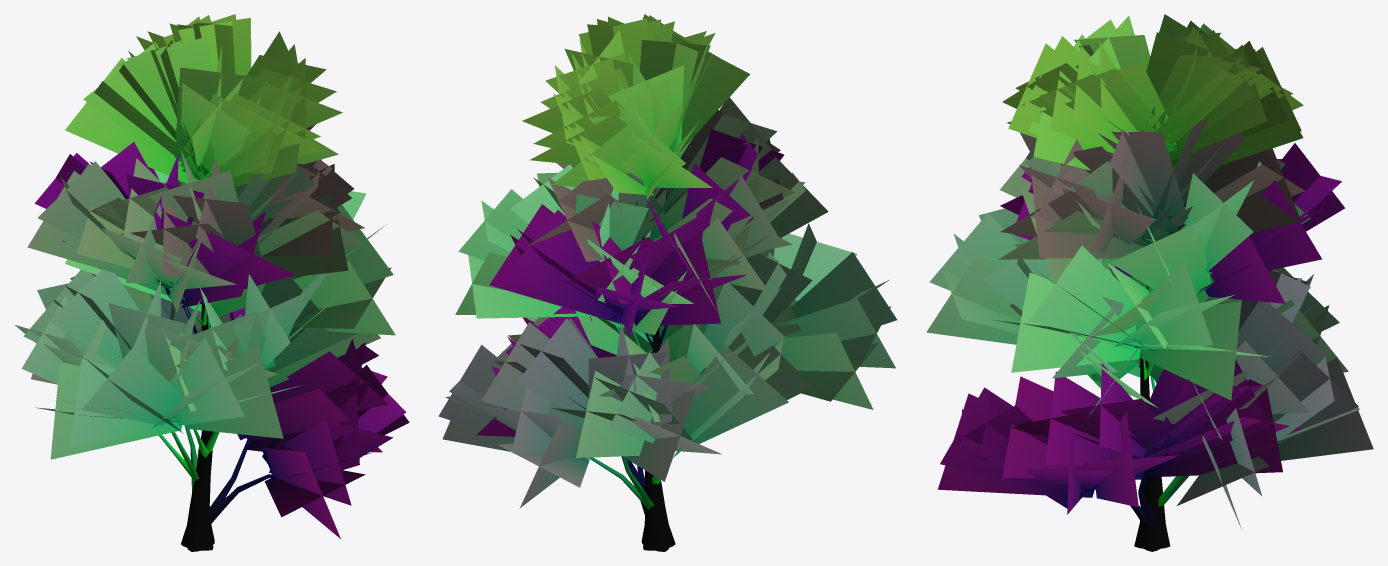
Rendered from Tree_8_4.fbx.
The picture shows the model from 3 angles, left to right: view 1: azimuth 30°, elevation 25°; view 2: azimuth 150°, elevation 25°; view 3: azimuth 270°, elevation 25°; orthographic projection. The views are drawn at different scales.
Visible parts, largest first — view 1: _7; view 2: _7; view 3: _7.
Boxes of the visible parts, left/top/right/bottom form: _7: left=15, top=14, right=409, bottom=551; _7: left=438, top=14, right=897, bottom=551; _7: left=926, top=14, right=1373, bottom=551.
Size of the model in its own units: 971 by 1324 by 1014.
